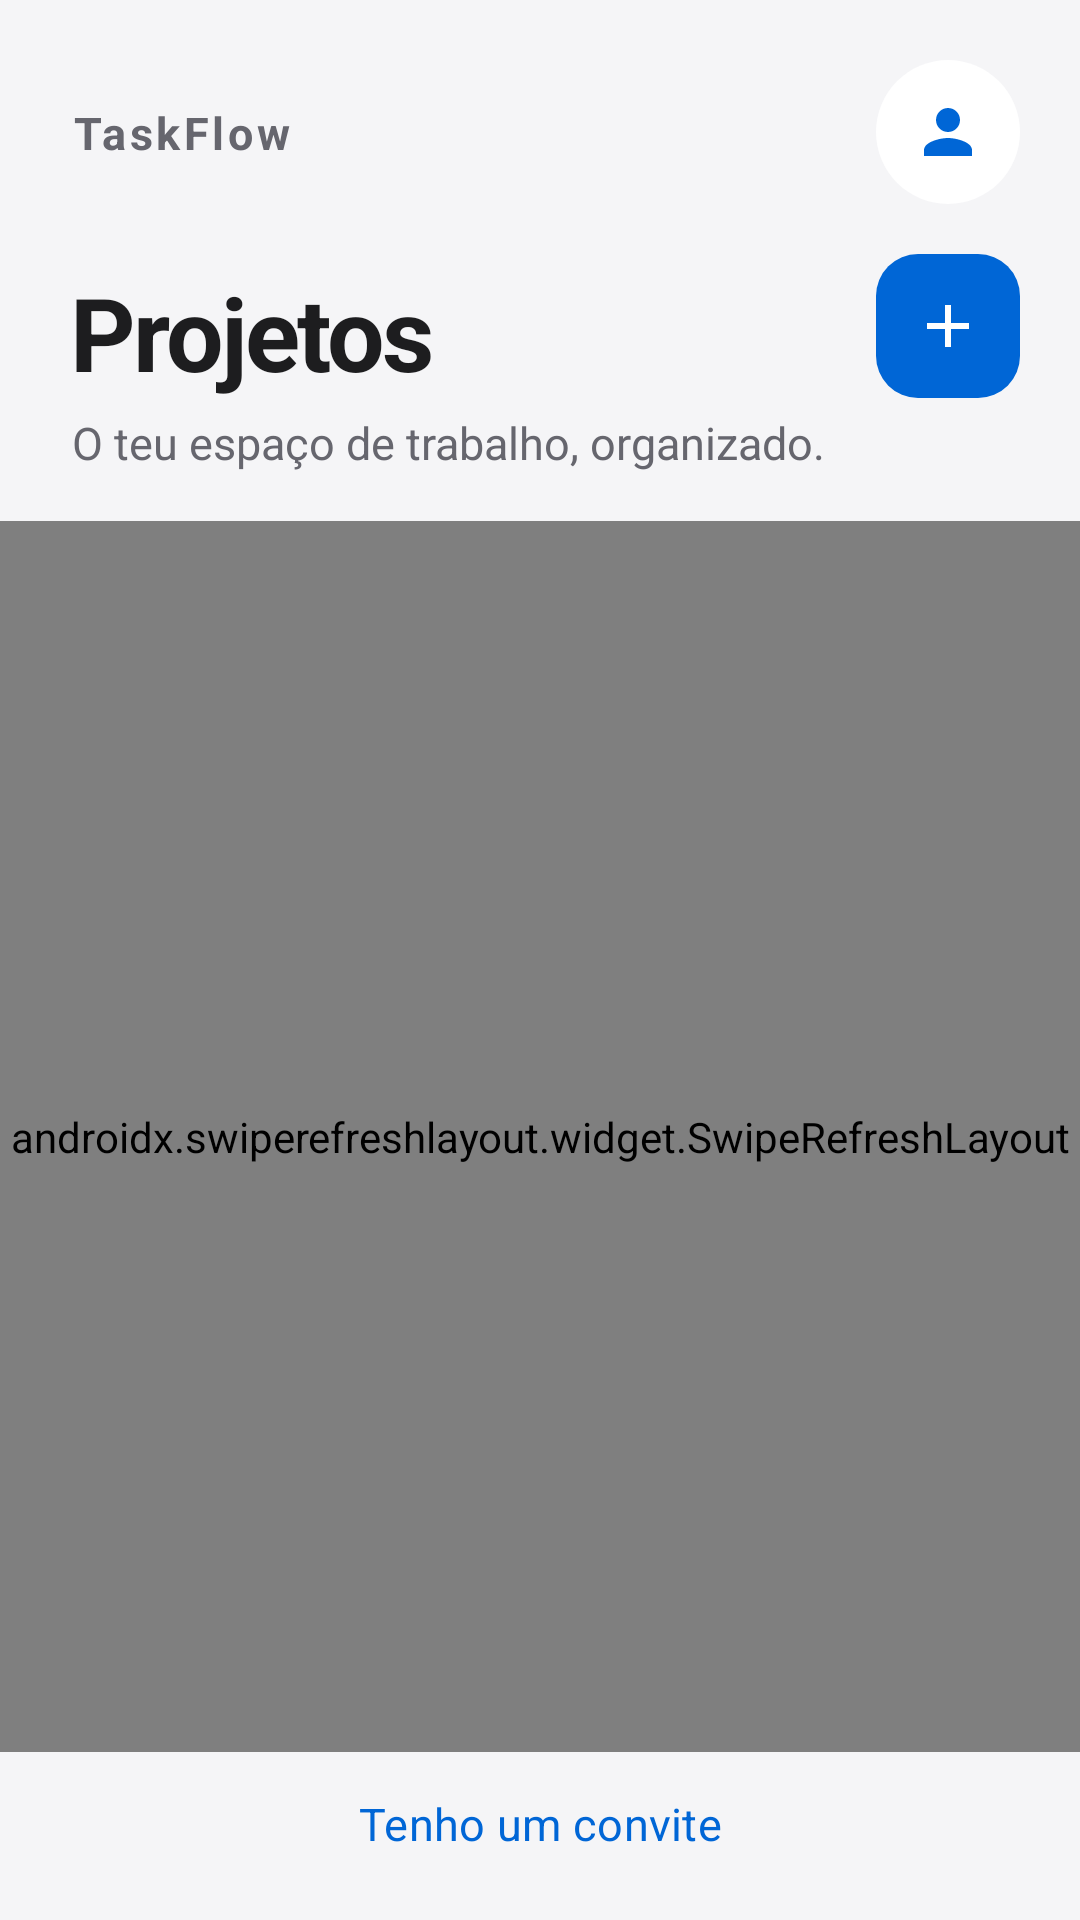

Where icons sit on this 1080*1920 app screen, as (x1, y1, x2, y2):
Novo projeto: (876, 254, 1020, 398)
O teu perfil: (924, 108, 972, 156)
